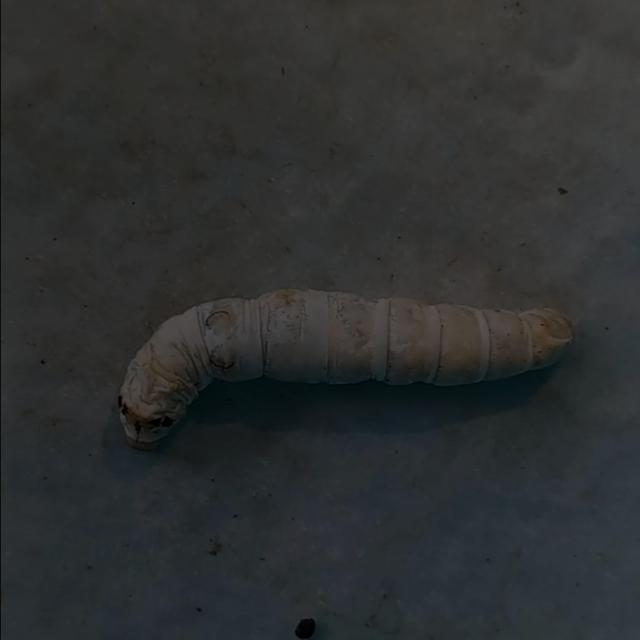Grasserie: (106, 271, 584, 461)
